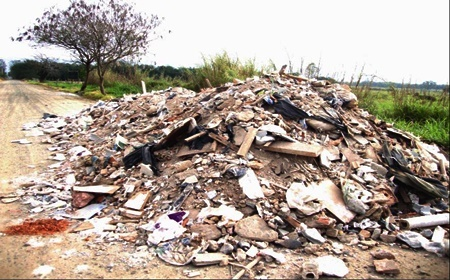rubble: (49, 72, 430, 261)
